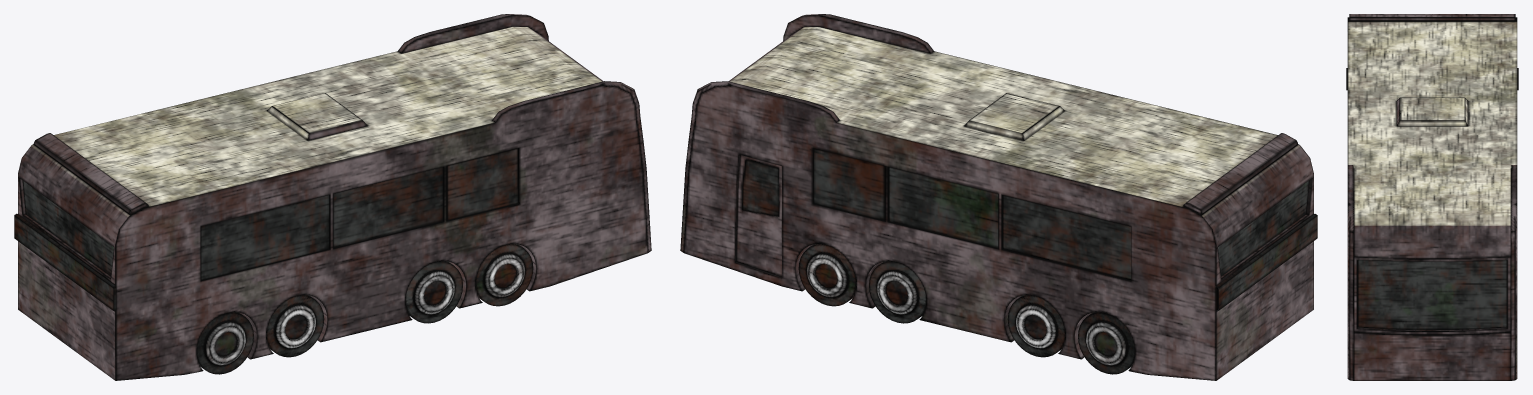
Rendered from Bus_01.fbx.
3 views of the same model, side by side, from view 1: azimuth 30°, elevation 25°; view 2: azimuth 150°, elevation 25°; view 3: azimuth 270°, elevation 25° (orthographic). The views are drawn at different scales.
Visible parts, largest first — view 1: SM_Bus01; view 2: SM_Bus01; view 3: SM_Bus01.
Boxes of the visible parts, x1,y1,x2,y2 form: SM_Bus01: (14,14,651,380); SM_Bus01: (680,14,1317,380); SM_Bus01: (1346,14,1518,380).
Size of the model in its own units: 640 by 224 by 203.
